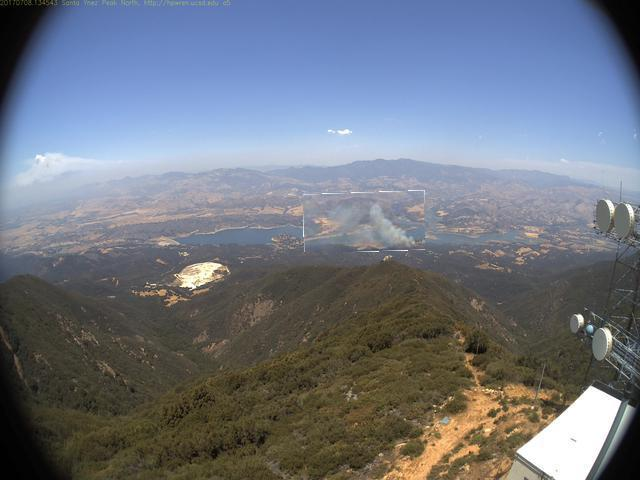smoke: (305, 192, 427, 253)
